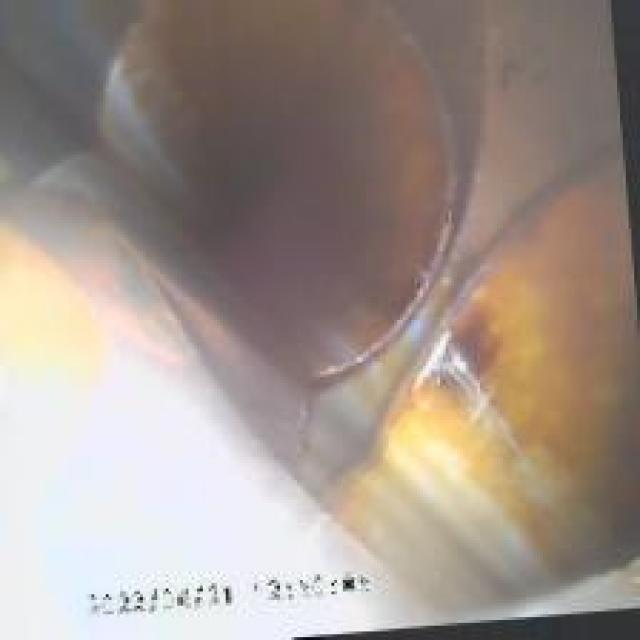joint: (51, 11, 620, 603)
